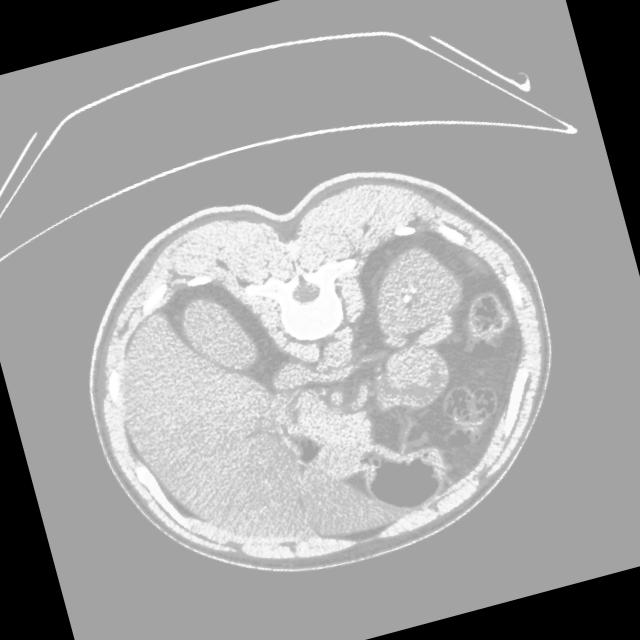STONE: (254, 273, 577, 572)
